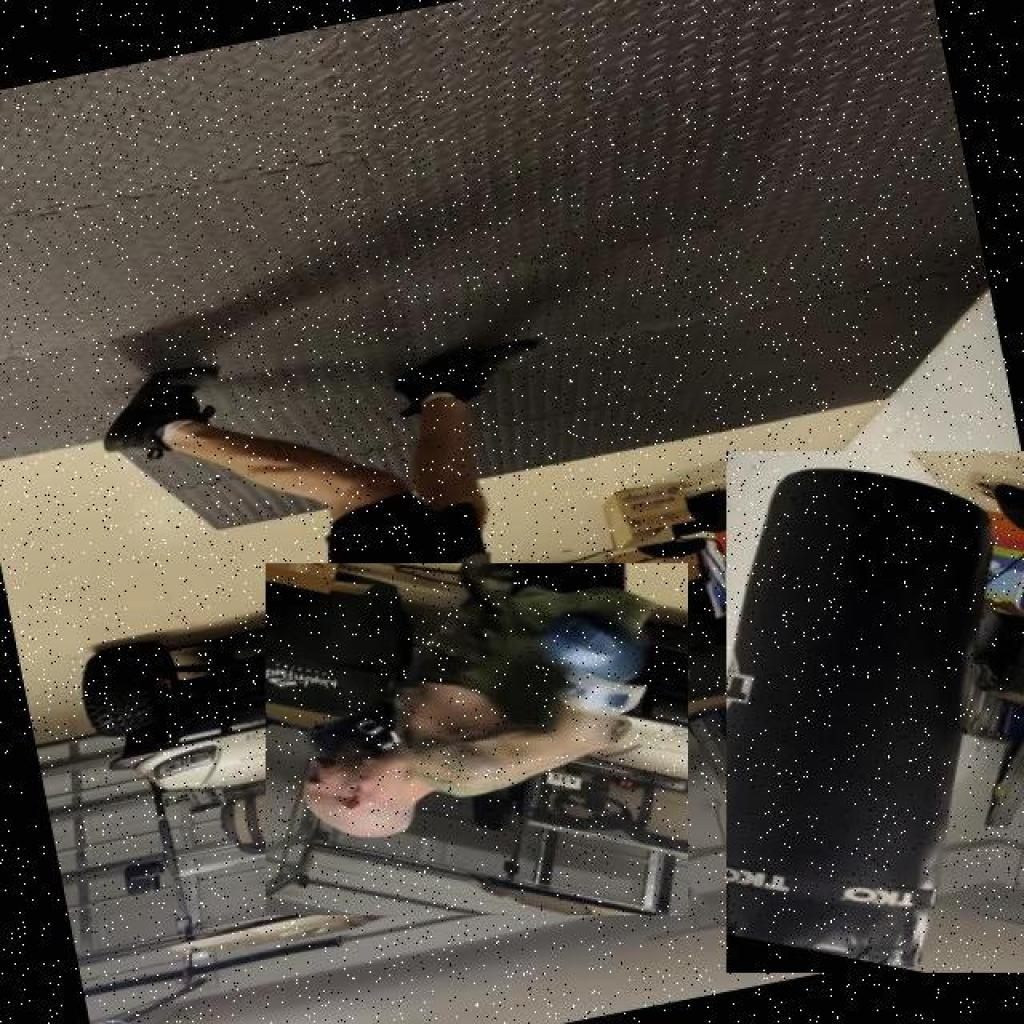bag: (726, 451, 1024, 973)
hook: (266, 563, 688, 916)
